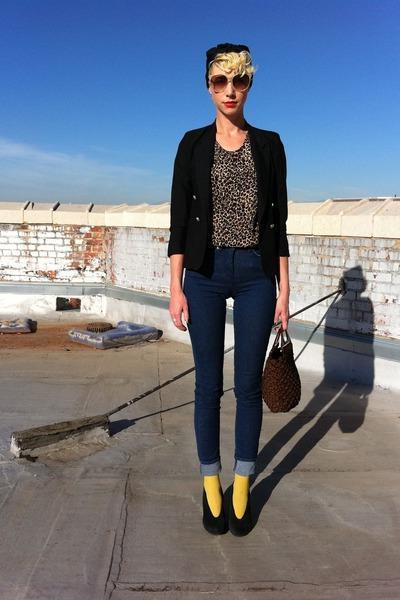jacket: (168, 123, 291, 278)
trousers: (178, 249, 280, 482)
vest: (202, 135, 259, 252)
